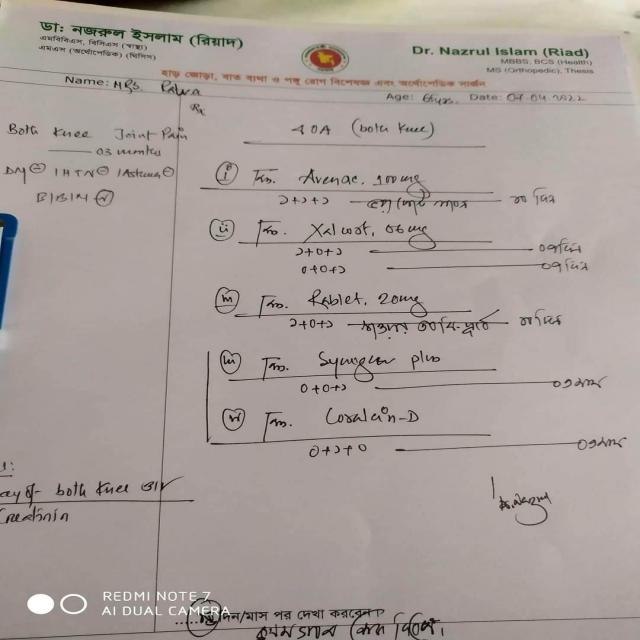Avenac: (293, 165, 368, 191)
Coralcin D: (322, 406, 420, 426)
Rablet: (302, 285, 369, 310)
Syu: (313, 350, 447, 373)
Xalcort: (294, 220, 377, 243)
